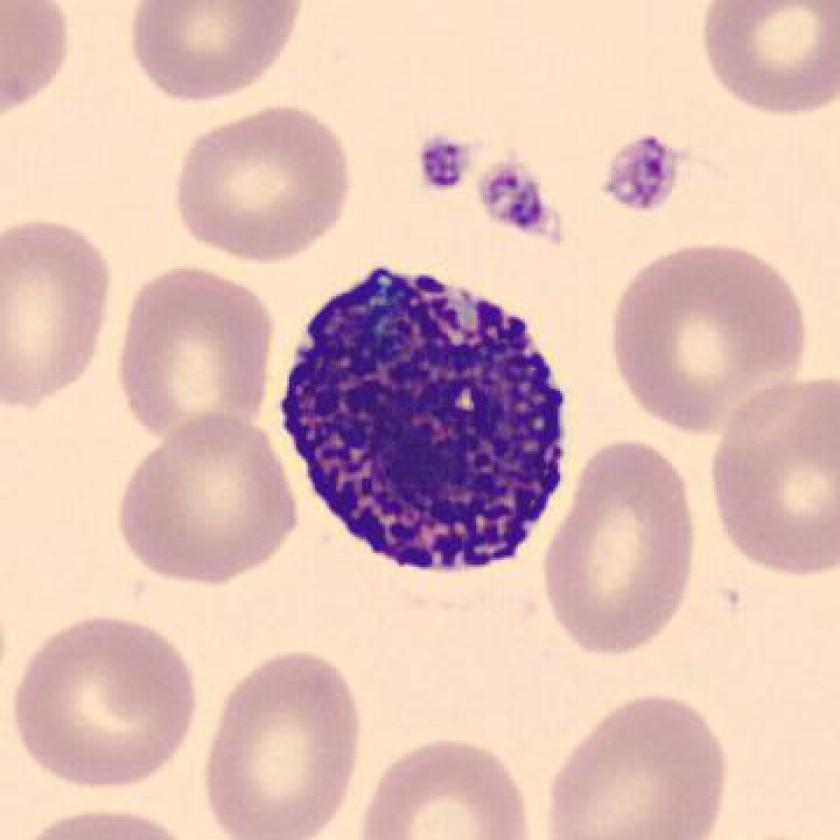basophil: (272, 258, 577, 575)
